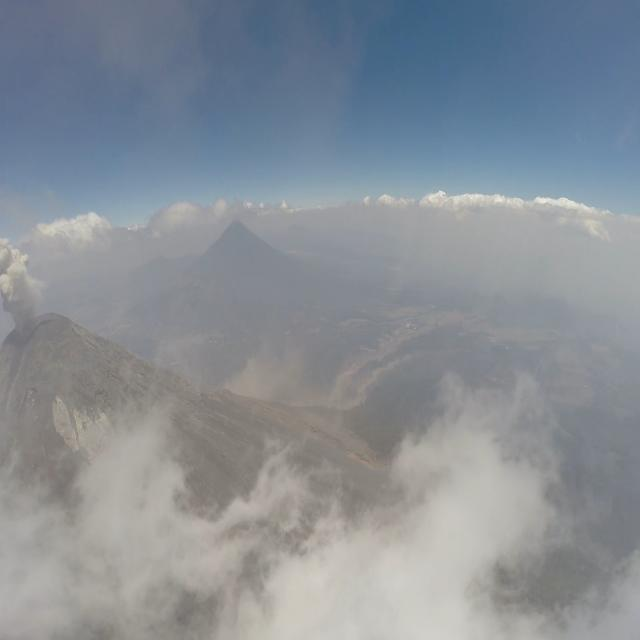Plume: (0, 228, 46, 342)
Summit: (0, 308, 107, 423)
